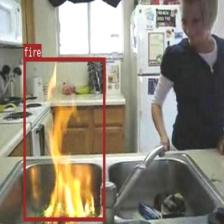fire: (23, 57, 104, 220)
